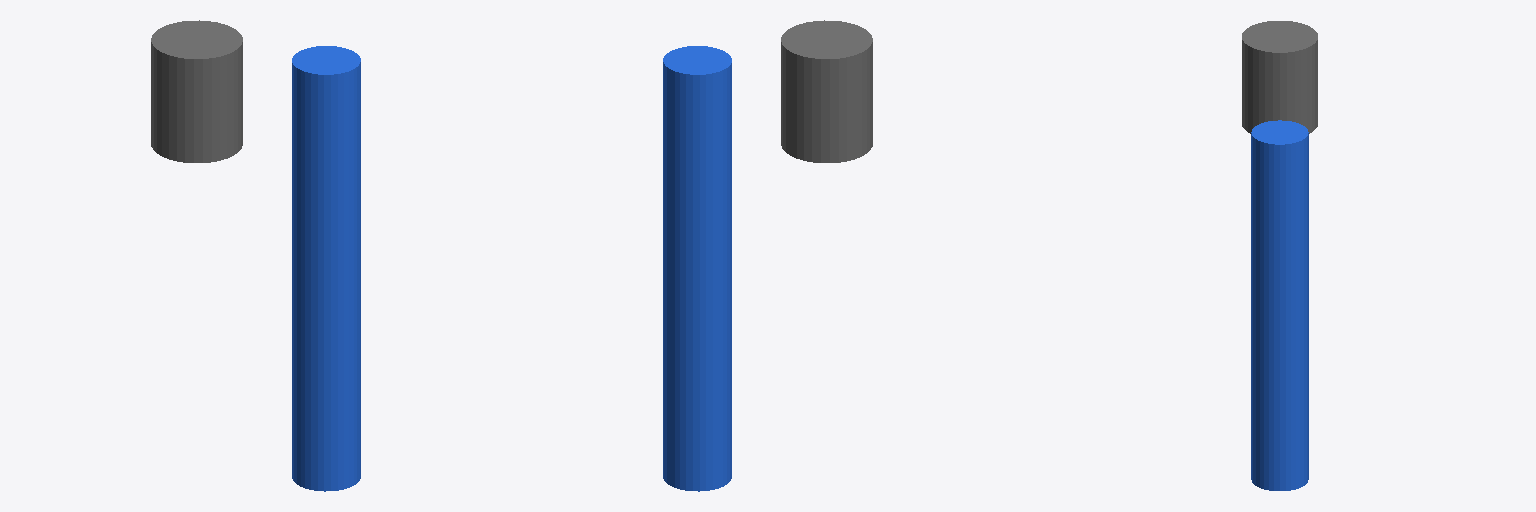
URDF robot description (marengo_arm_2dof_right):
<?xml version="1.0"?>
<!-- Right 2-DOF bench: shoulder pitch (torso) → shoulder roll (arm sub-asm).
     Matches config/bringup/arm_2dof_right/robot.yaml.
     Axes per hardware/docs/kinematics.md (right arm table). -->
<robot name="marengo_arm_2dof_right">
  <link name="base_link">
    <inertial>
      <mass value="0.001"/>
      <inertia ixx="1e-6" ixy="0" ixz="0" iyy="1e-6" iyz="0" izz="1e-6"/>
    </inertial>
    <visual>
      <origin xyz="0 0 0" rpy="0 0 0"/>
      <geometry>
        <cylinder radius="0.04" length="0.10"/>
      </geometry>
      <material name="mount_gray">
        <color rgba="0.5 0.5 0.5 1"/>
      </material>
    </visual>
  </link>
  <link name="right_shoulder_pitch_link">
    <inertial>
      <origin xyz="0 0 0" rpy="0 0 0"/>
      <mass value="0.3"/>
      <inertia ixx="0.002" ixy="0" ixz="0" iyy="0.002" iyz="0" izz="0.002"/>
    </inertial>
  </link>
  <link name="right_shoulder_roll_link">
    <inertial>
      <origin xyz="0.05 0 0" rpy="0 0 0"/>
      <mass value="0.3"/>
      <inertia ixx="0.002" ixy="0" ixz="0" iyy="0.002" iyz="0" izz="0.002"/>
    </inertial>
  </link>
  <link name="right_upper_arm_stub">
    <inertial>
      <mass value="0.7"/>
      <origin xyz="0 0 -0.36" rpy="0 0 0"/>
      <inertia ixx="0.001" ixy="0" ixz="0" iyy="0.001" iyz="0" izz="0.0001"/>
    </inertial>
    <visual>
      <origin xyz="0 0 -0.2" rpy="0 0 0"/>
      <geometry>
        <cylinder radius="0.03" length="0.4"/>
      </geometry>
      <material name="arm_blue">
        <color rgba="0.23 0.51 0.96 1"/>
      </material>
    </visual>
  </link>
  <joint name="right_shoulder_pitch" type="revolute">
    <parent link="base_link"/>
    <child link="right_shoulder_pitch_link"/>
    <origin xyz="0 0 0" rpy="0 0 0"/>
    <axis xyz="0 1 0"/>
    <limit lower="-0.9" upper="3.25" effort="60" velocity="2.0"/>
    <safety_controller soft_lower_limit="-0.872665" soft_upper_limit="3.20" k_position="10" k_velocity="1"/>
  </joint>
  <joint name="right_shoulder_roll" type="revolute">
    <parent link="right_shoulder_pitch_link"/>
    <child link="right_shoulder_roll_link"/>
    <origin xyz="0.05 0 0" rpy="0 0 0"/>
    <axis xyz="1 0 0"/>
    <limit lower="-0.05" upper="3.14159" effort="60" velocity="2.0"/>
    <safety_controller soft_lower_limit="-0.05" soft_upper_limit="3.14159" k_position="10" k_velocity="1"/>
  </joint>
  <joint name="right_upper_arm_fixed" type="fixed">
    <parent link="right_shoulder_roll_link"/>
    <child link="right_upper_arm_stub"/>
    <origin xyz="0.08 0 0" rpy="0 0 0"/>
  </joint>
</robot>

--- Facts derived from the render (not from the file) ---
3 views of the same robot in one strip: view 1: azimuth 30°, elevation 25°; view 2: azimuth 150°, elevation 25°; view 3: azimuth 270°, elevation 25° (orthographic).
Model marengo_arm_2dof_right with 4 links and 3 joints (2 revolute, 1 fixed), rooted at base_link, posed all joints at 0.
Links seen in each view (by area): view 1: right_upper_arm_stub, base_link; view 2: right_upper_arm_stub, base_link; view 3: right_upper_arm_stub, base_link.
Boxes of the visible links, x1,y1,x2,y2 form: right_upper_arm_stub: [292, 46, 360, 491]; base_link: [151, 20, 242, 162]; right_upper_arm_stub: [663, 46, 731, 491]; base_link: [781, 20, 872, 162]; right_upper_arm_stub: [1251, 120, 1308, 490]; base_link: [1242, 21, 1317, 133].
Size in the robot's own frame: 0.2 by 0.08 by 0.45 metres.
Geometry: primitives only (box / cylinder / sphere), no mesh files.
